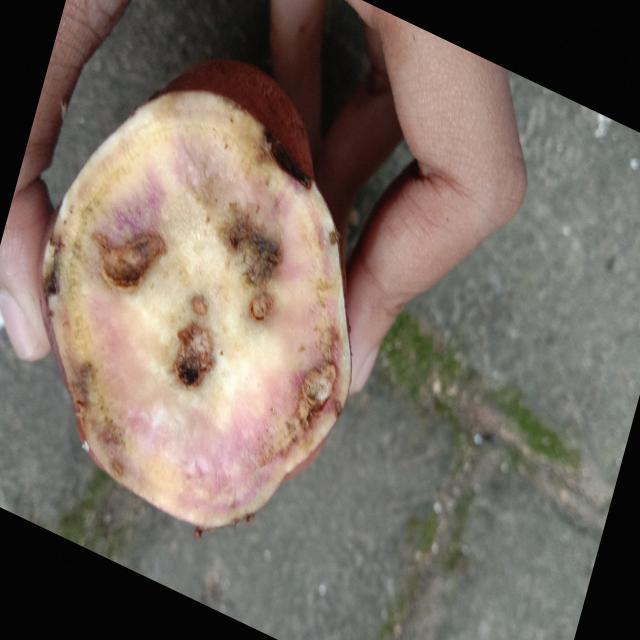Sick Sweet Potato_Tuber Rot: (44, 60, 351, 533)
